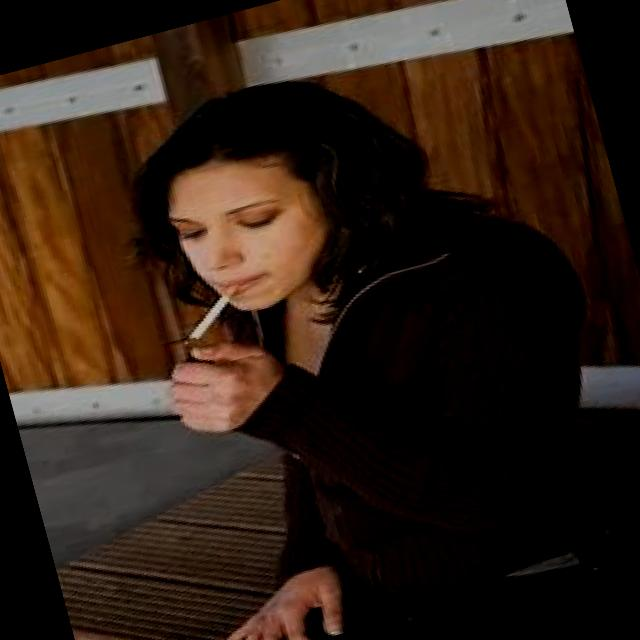cigarette: (168, 276, 252, 346)
